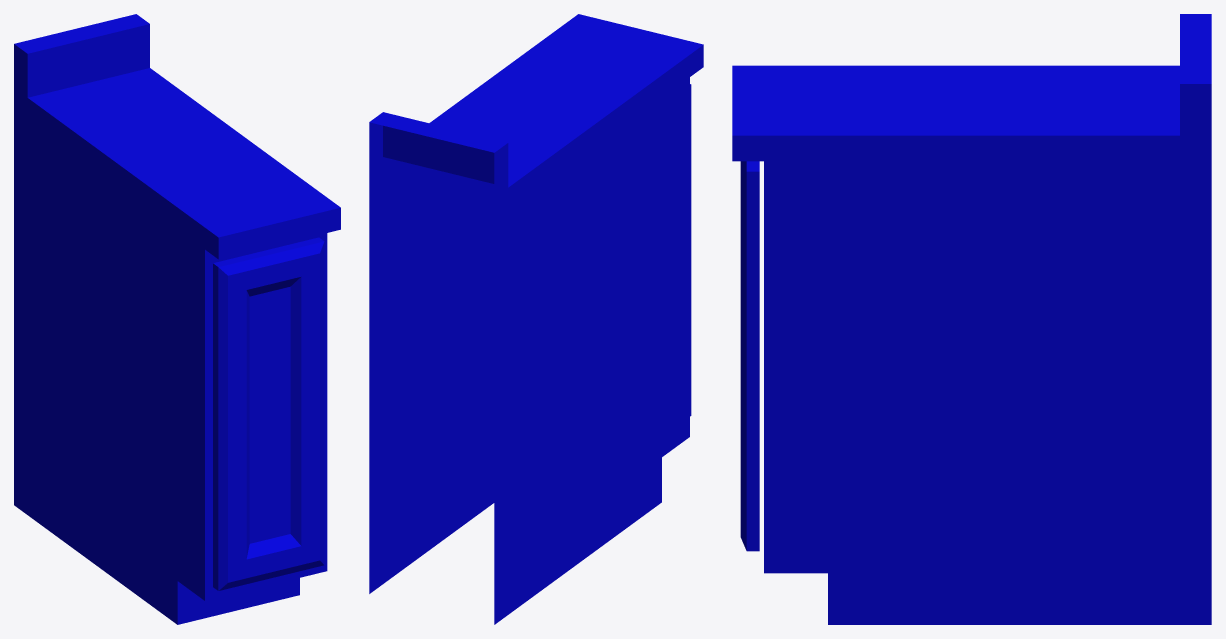
The model's file is Kitchen_SlimFloorCabinet.fbx.
The picture shows the model from 3 angles, left to right: view 1: azimuth 30°, elevation 25°; view 2: azimuth 150°, elevation 25°; view 3: azimuth 270°, elevation 25°; orthographic projection. The views are drawn at different scales.
Parts seen in each view (by area): view 1: SM_SlimCabinet4; view 2: SM_SlimCabinet4; view 3: SM_SlimCabinet4.
Part boxes in pixels (x1,y1,x2,y2): SM_SlimCabinet4: (14, 14, 340, 624); SM_SlimCabinet4: (369, 14, 703, 624); SM_SlimCabinet4: (732, 14, 1211, 624).
Size of the model in its own units: 31.25 by 112 by 90.41.
